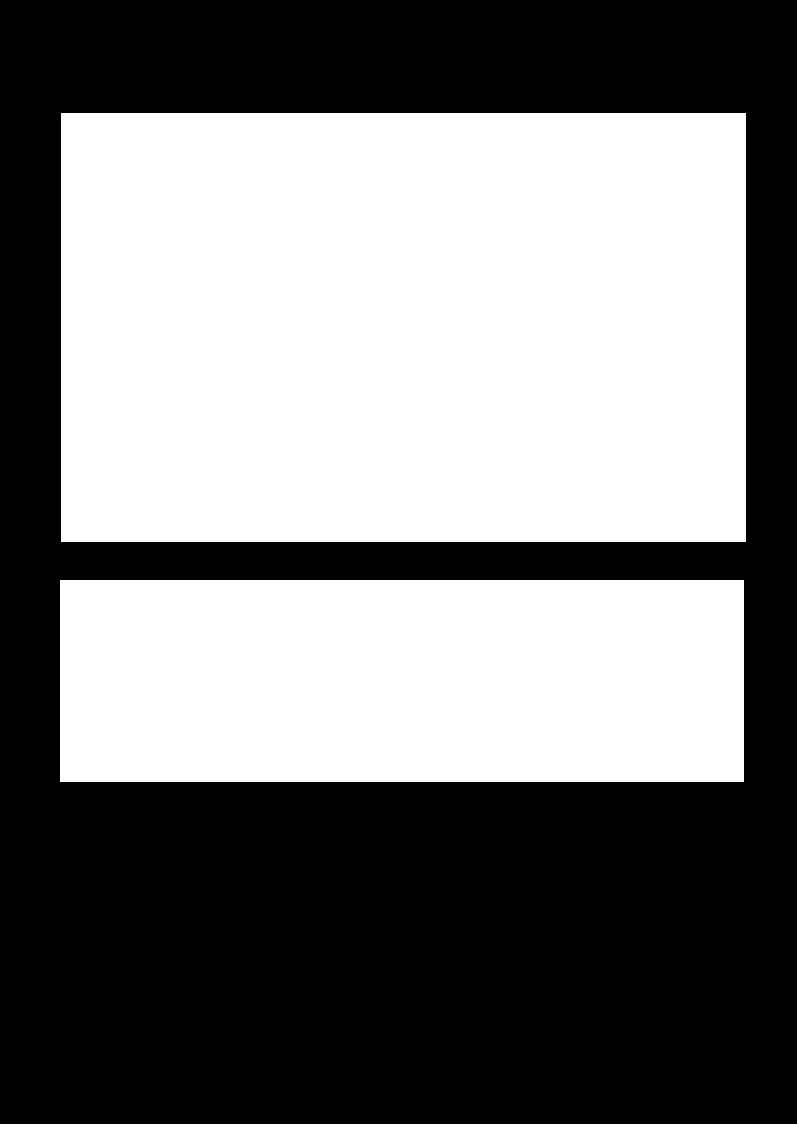table: (61, 113, 745, 541), (60, 580, 743, 781)
